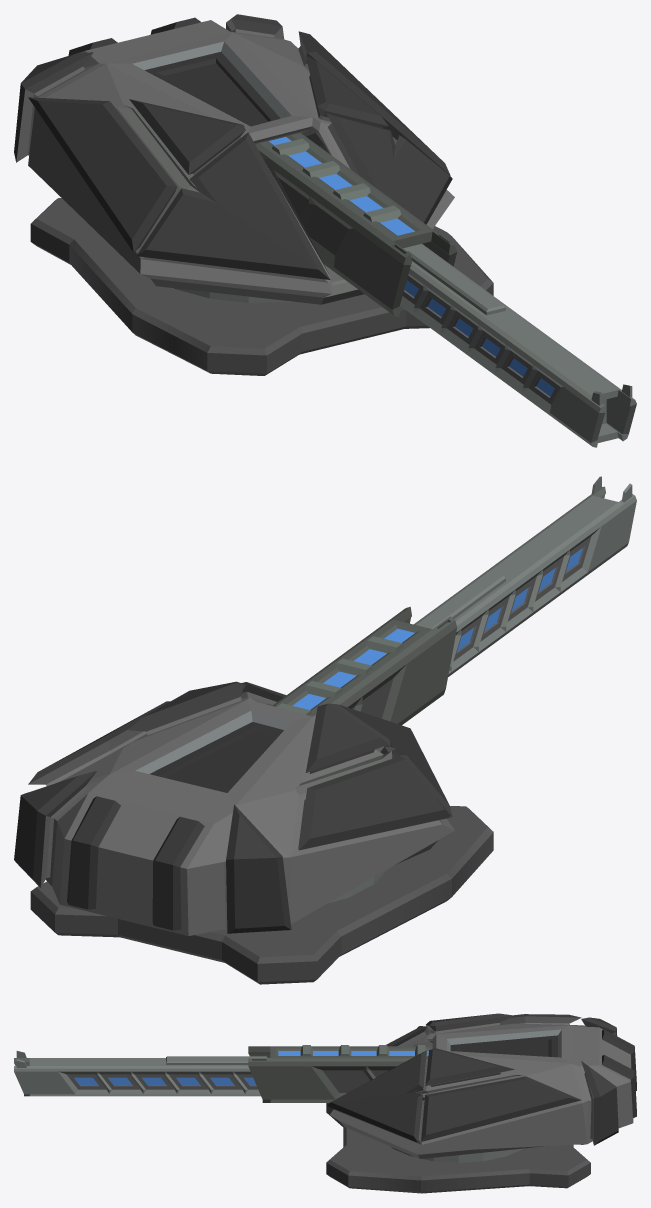
The model's file is model_polyfleet_battleship_railgun5.fbx.
The picture shows the model from 3 angles, top to bottom: view 1: azimuth 30°, elevation 25°; view 2: azimuth 150°, elevation 25°; view 3: azimuth 270°, elevation 25°; orthographic projection. The views are drawn at different scales.
Visible parts, largest first — view 1: model_weapon_rotate, model_polyfleet_battleship_railgun5, model_railgun_barrel_front, model_railgun_barrel_back, emissive (×2); view 2: model_weapon_rotate, model_polyfleet_battleship_railgun5, model_railgun_barrel_front, model_railgun_barrel_back, emissive (×2); view 3: model_weapon_rotate, model_polyfleet_battleship_railgun5, model_railgun_barrel_front, model_railgun_barrel_back, emissive (×2).
Boxes of the visible parts, box(x1,y1,x2,y2) form: model_weapon_rotate: box(14, 14, 454, 304); model_polyfleet_battleship_railgun5: box(30, 198, 493, 375); model_railgun_barrel_front: box(400, 244, 636, 447); model_railgun_barrel_back: box(255, 133, 456, 316); emissive (×2): box(268, 137, 554, 396); model_weapon_rotate: box(14, 681, 454, 935); model_polyfleet_battleship_railgun5: box(30, 806, 493, 984); model_railgun_barrel_front: box(413, 476, 636, 676); model_railgun_barrel_back: box(272, 606, 457, 725); emissive (×2): box(292, 548, 582, 709); model_weapon_rotate: box(326, 1013, 636, 1162); model_polyfleet_battleship_railgun5: box(326, 1103, 590, 1193); model_railgun_barrel_front: box(14, 1051, 269, 1096); model_railgun_barrel_back: box(248, 1045, 432, 1102); emissive (×2): box(74, 1051, 428, 1085).
Bounding box in the file's own units: 254 × 135 × 687.
